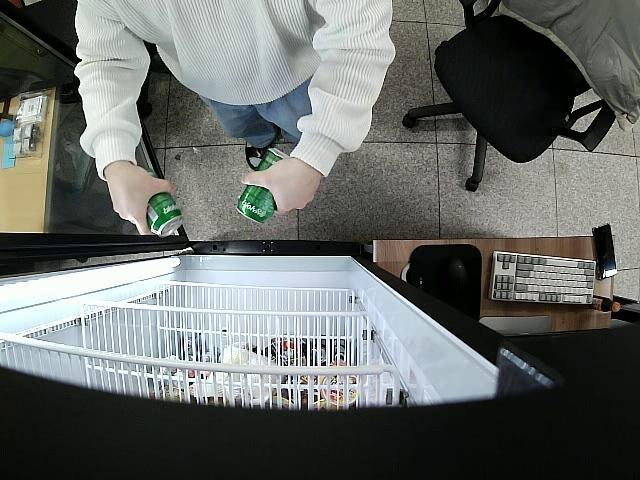12_chilsungCider: (236, 144, 289, 224), (142, 168, 184, 240)
